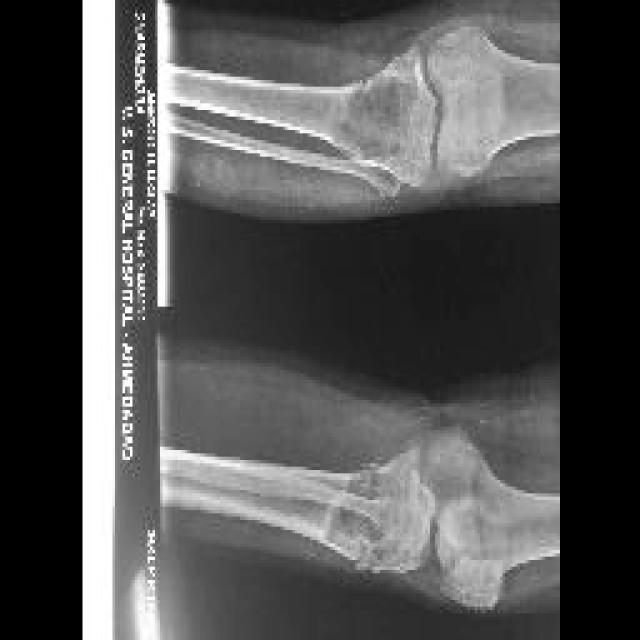bone-cancer: (311, 463, 435, 572), (335, 63, 410, 172)
